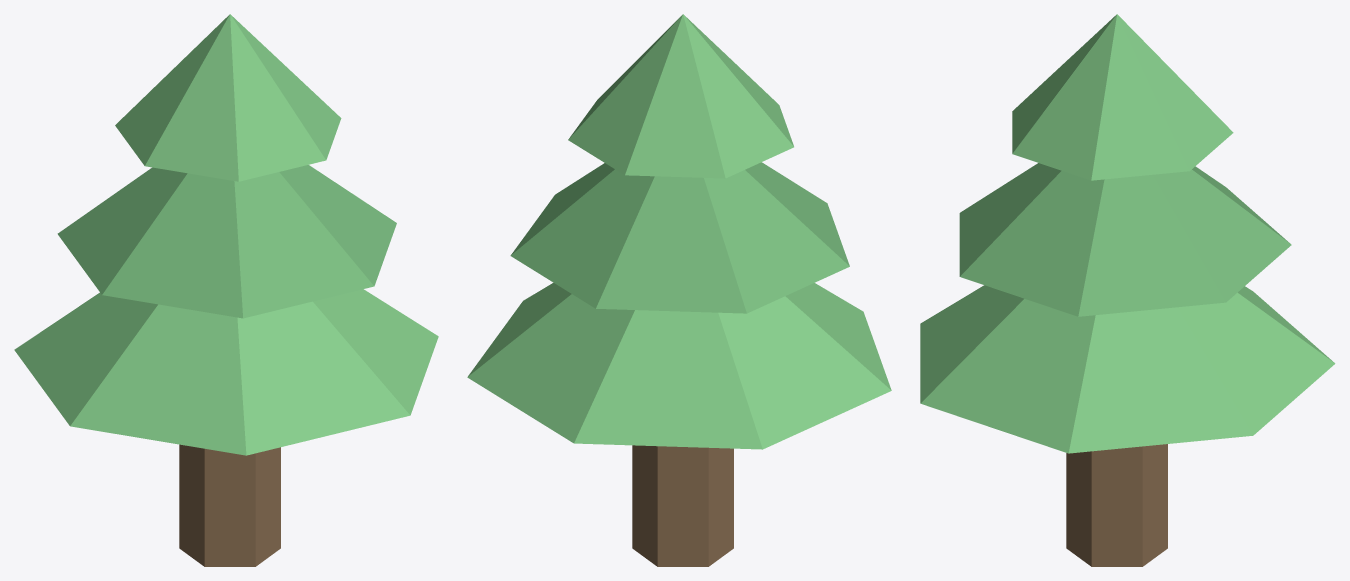
Rendered from tree_fantasy.glb.
3 renders of one model, left to right at view 1: azimuth 30°, elevation 25°; view 2: azimuth 150°, elevation 25°; view 3: azimuth 270°, elevation 25°, orthographic.
Visible parts, largest first — view 1: Cone, Cone.001, Cone.002, Cylinder; view 2: Cone, Cone.001, Cone.002, Cylinder; view 3: Cone, Cone.001, Cone.002, Cylinder.
Boxes of the visible parts, <box> form: Cone: <box>14,289,438,455</box>; Cone.001: <box>57,165,396,318</box>; Cone.002: <box>115,14,341,181</box>; Cylinder: <box>179,444,280,566</box>; Cone: <box>467,282,891,449</box>; Cone.001: <box>510,162,849,313</box>; Cone.002: <box>568,14,793,178</box>; Cylinder: <box>632,445,733,566</box>; Cone: <box>920,285,1335,453</box>; Cone.001: <box>959,163,1291,316</box>; Cone.002: <box>1012,14,1233,180</box>; Cylinder: <box>1066,444,1167,566</box>.
Size of the model in its own units: 2.92 by 4.05 by 2.85.
